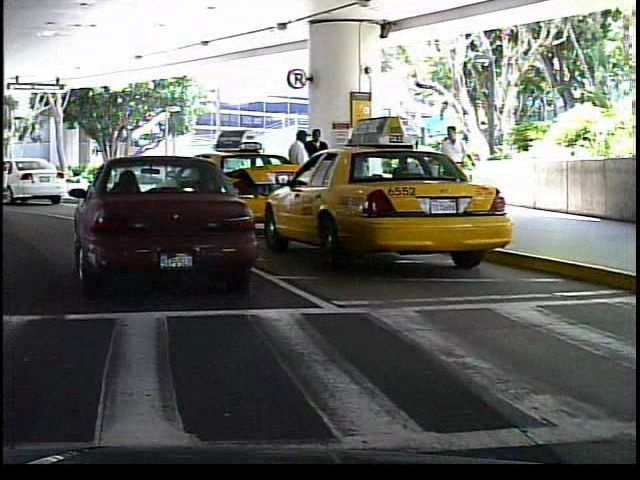person: (433, 121, 473, 217), (284, 126, 313, 214), (436, 131, 469, 207), (306, 126, 331, 209)
